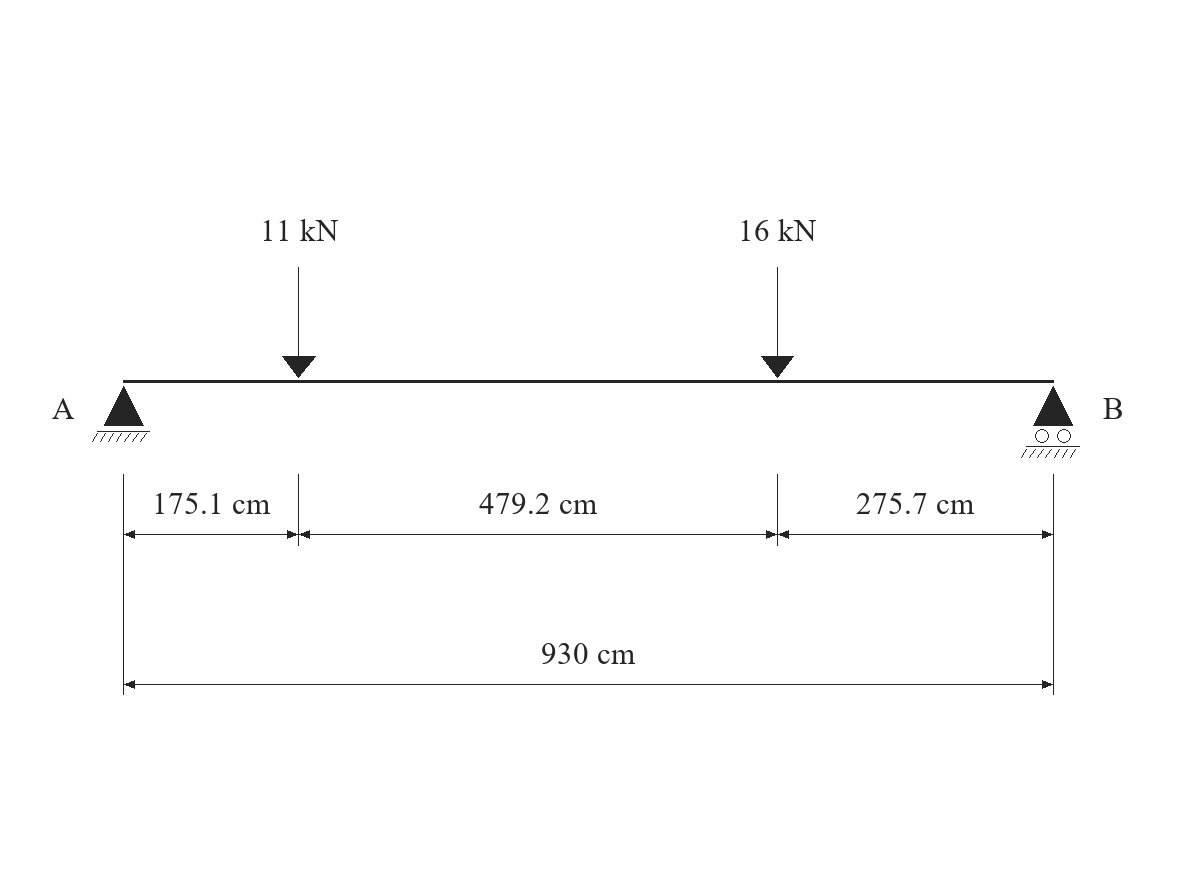pin_support: (92, 386, 150, 442)
point_load: (282, 267, 316, 378), (761, 267, 794, 378)
roller_support: (1021, 386, 1080, 458)
